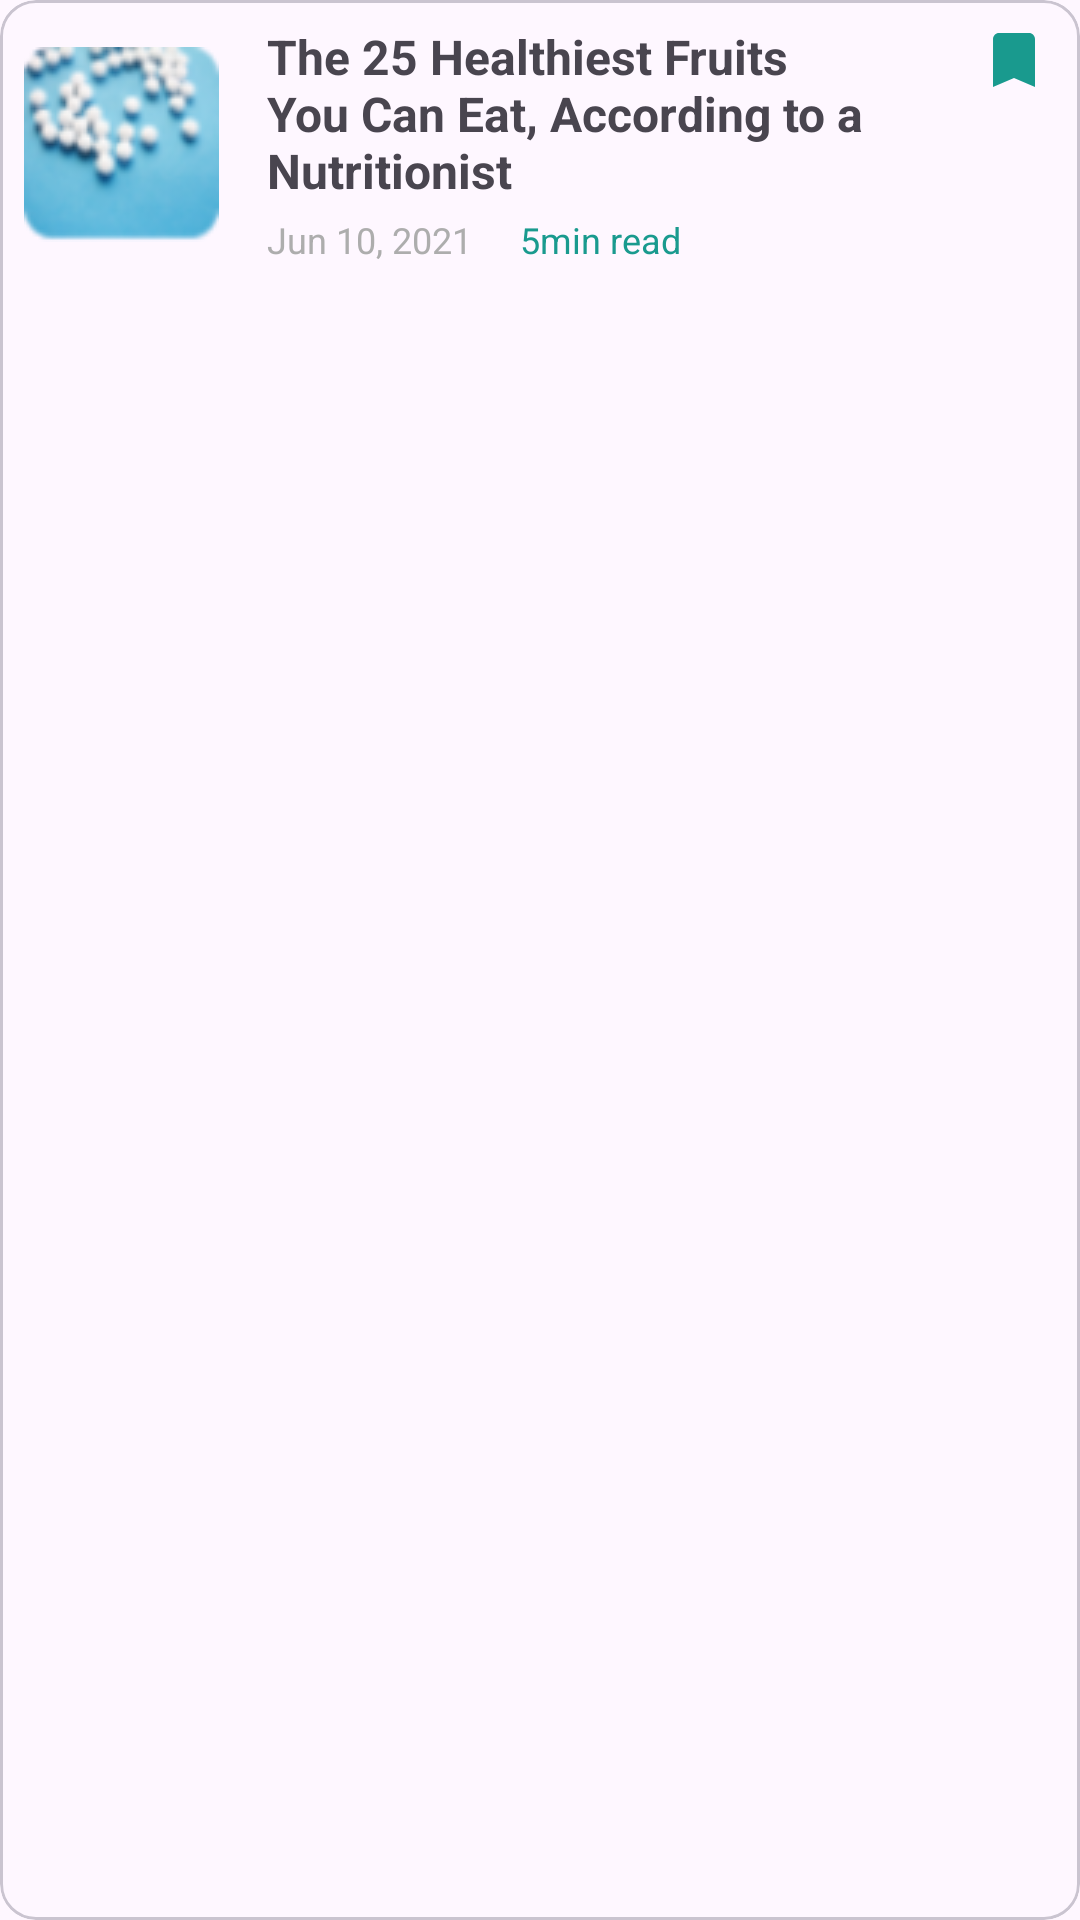

Screen size 1080*1920. Icon name, then its box in pixels as (x1, y1, x2, y2):
bookmark: (993, 33, 1035, 87)
